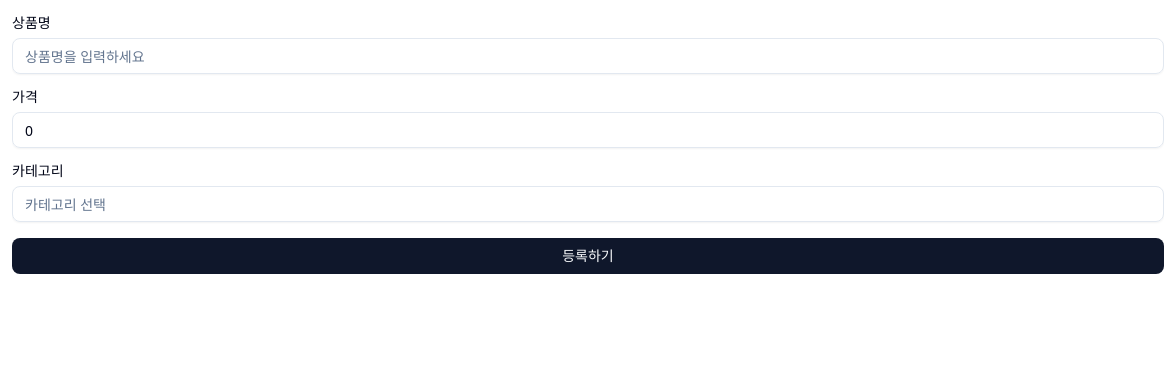
Test: ProductForm 컴포넌트 테스트 › 상품명이 2글자 미만이면 에러 메시지를 표시해야 한다
Note: 상품명 입력 칸에 '가' 하나만 입력 (2글자 미만)
Type "가" into the field labelled "상품명" at (588, 56), box [12,38,1164,74]
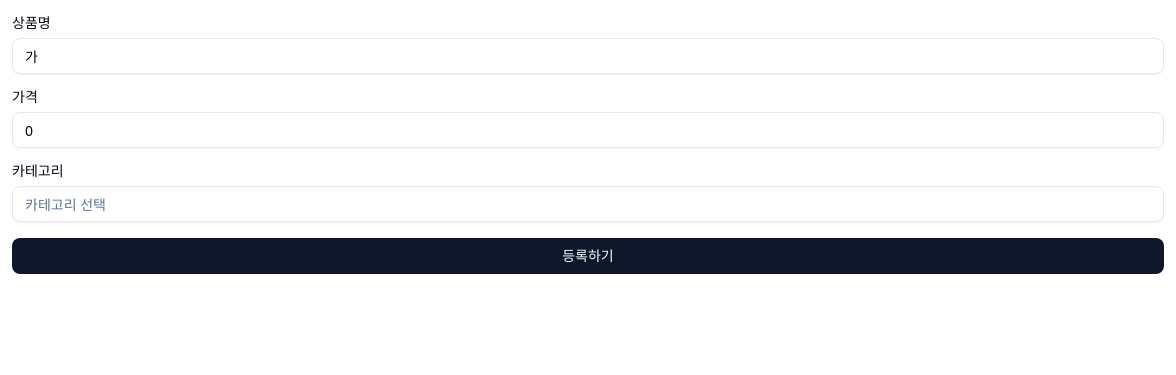
Note: 등록 버튼 클릭
Click the button "등록하기" at (588, 256), box [12,238,1164,274]
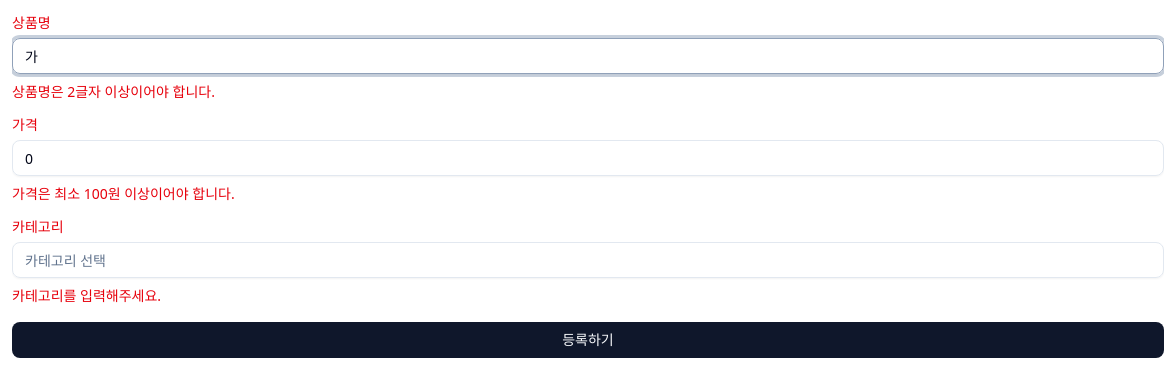
Result: the text "상품명은 2글자 이상이어야 합니다." is shown at [12,82,215,101]
